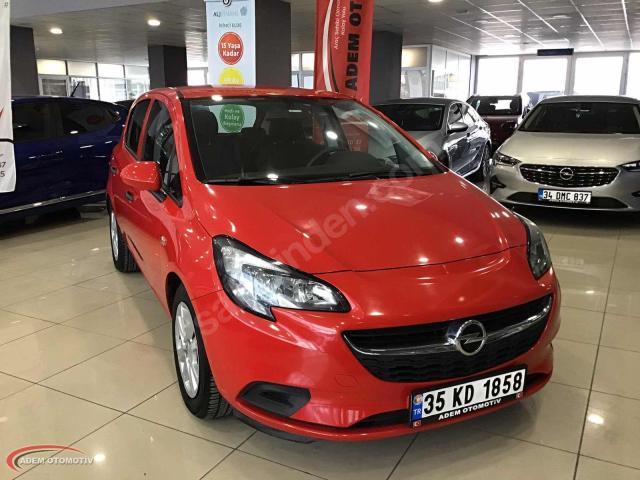plaka: (411, 368, 525, 426)
